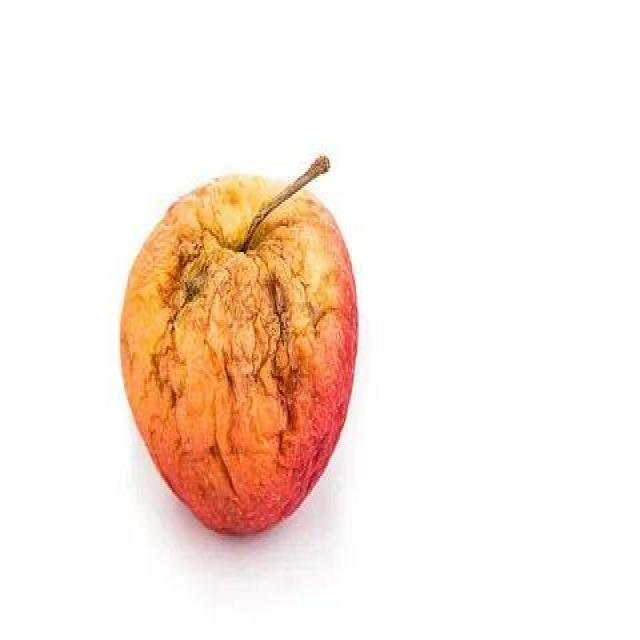Rotten: (132, 153, 353, 535)
